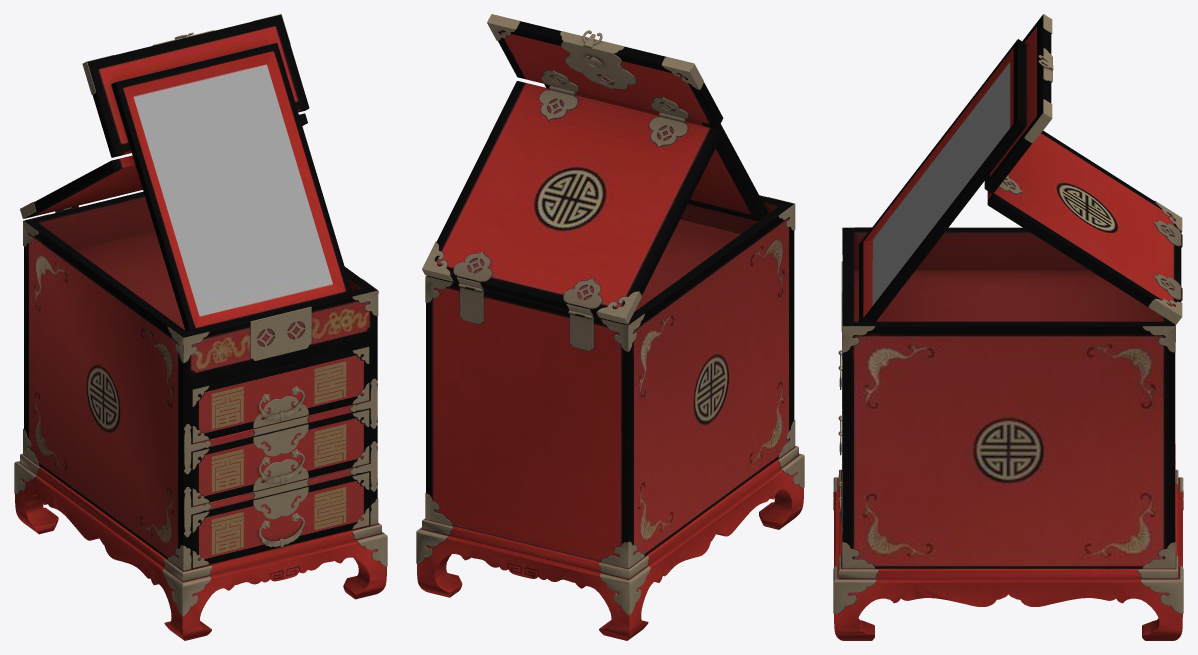
Rendered from gt_mirror.glb.
3 renders of one model, left to right at view 1: azimuth 30°, elevation 25°; view 2: azimuth 150°, elevation 25°; view 3: azimuth 270°, elevation 25°, orthographic. The views are drawn at different scales.
Parts seen in each view (by area): view 1: SM_GTJ_Mirror; view 2: SM_GTJ_Mirror; view 3: SM_GTJ_Mirror.
Part boxes in pixels (x1=…): SM_GTJ_Mirror: x1=14, y1=14, x2=387, y2=640; SM_GTJ_Mirror: x1=416, y1=14, x2=804, y2=640; SM_GTJ_Mirror: x1=833, y1=14, x2=1183, y2=640.
Size of the model in its own units: 0.1721 by 0.4119 by 0.2446.
Materials: 1 (1 with a texture image).
